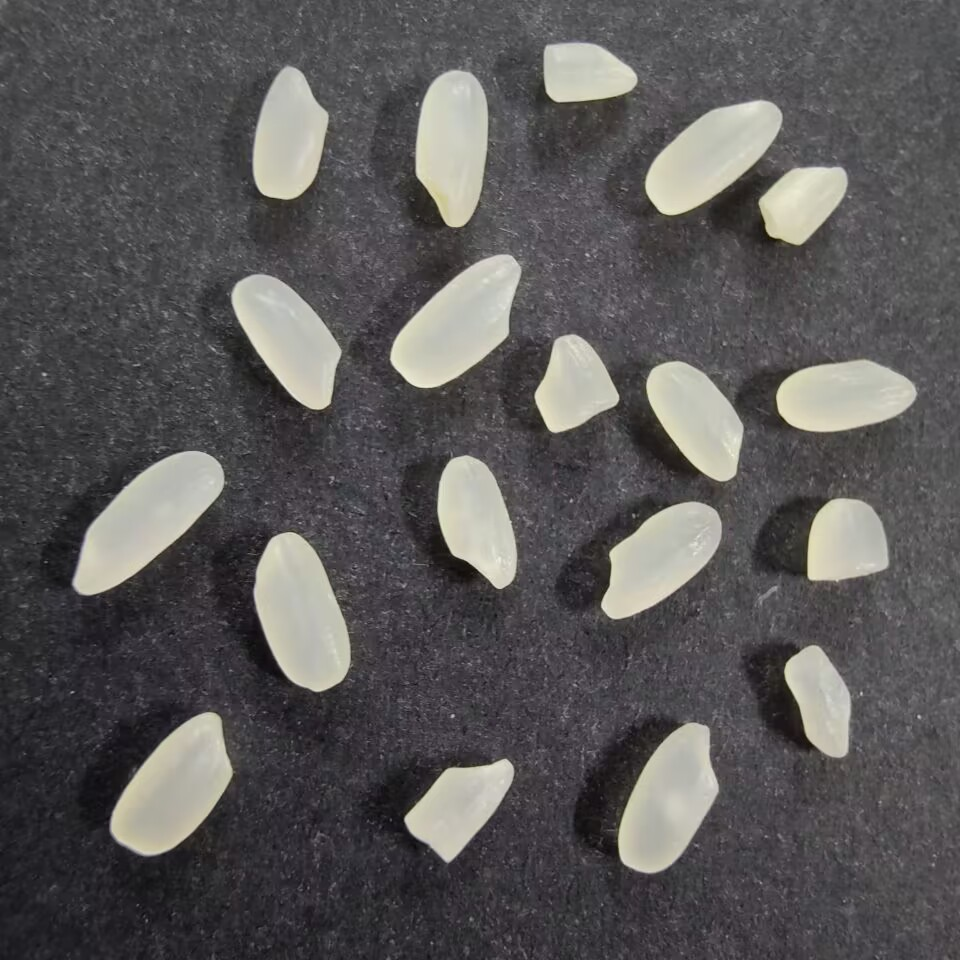broken: (399, 754, 519, 868), (530, 333, 623, 432), (781, 643, 855, 762), (803, 493, 891, 590), (757, 162, 854, 249), (536, 38, 640, 105)
rice: (63, 446, 225, 600), (387, 250, 522, 392), (108, 709, 235, 858), (612, 716, 724, 878), (246, 528, 352, 694), (644, 97, 785, 220), (228, 272, 344, 413), (598, 497, 726, 619), (645, 361, 748, 482), (413, 68, 489, 230), (432, 451, 518, 592), (248, 61, 331, 204), (774, 357, 919, 436)
